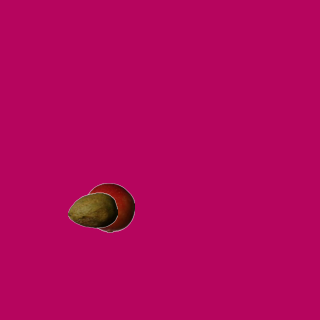Apple Braeburn: (84, 182, 134, 232)
Papaya: (67, 185, 117, 235)
